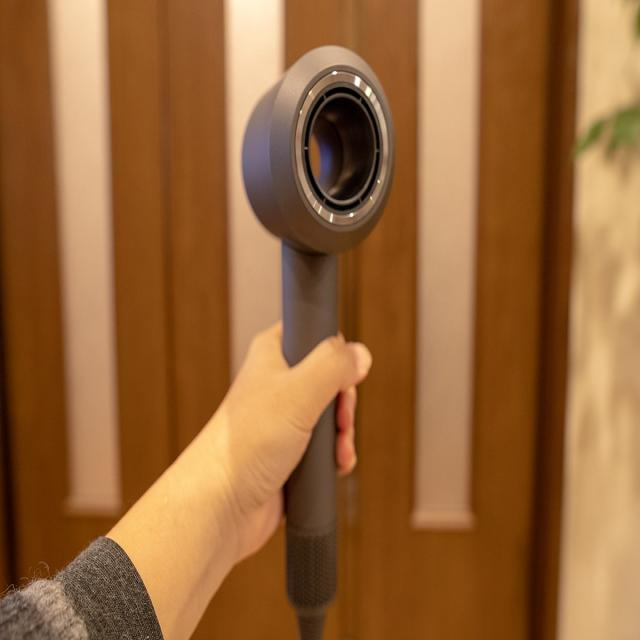dryer: (240, 44, 398, 640)
